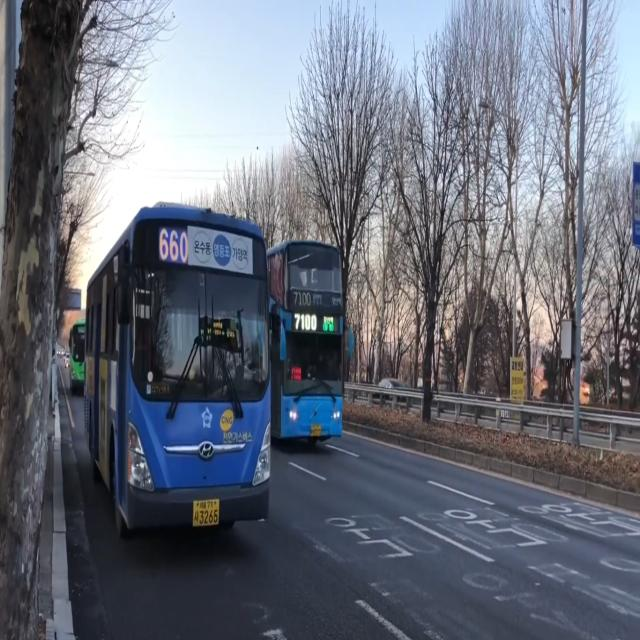bus-number: (158, 227, 189, 264), (294, 312, 318, 332)
